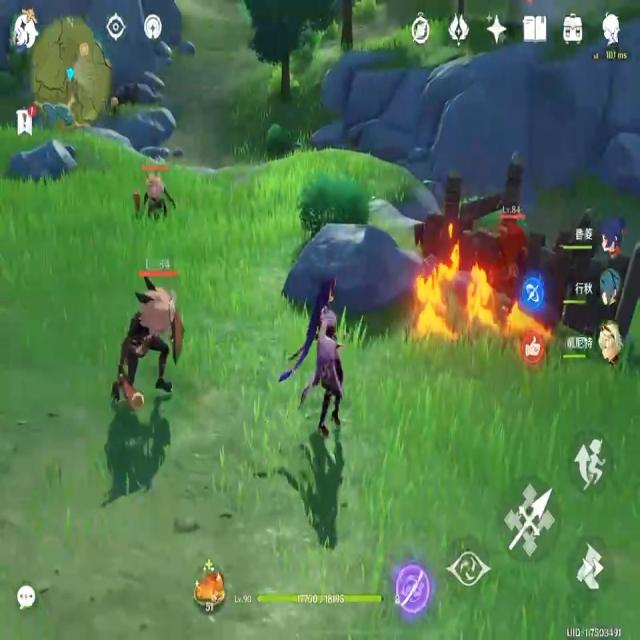genshin-hilichurls: (121, 256, 184, 404), (490, 194, 528, 300), (132, 161, 176, 227)
